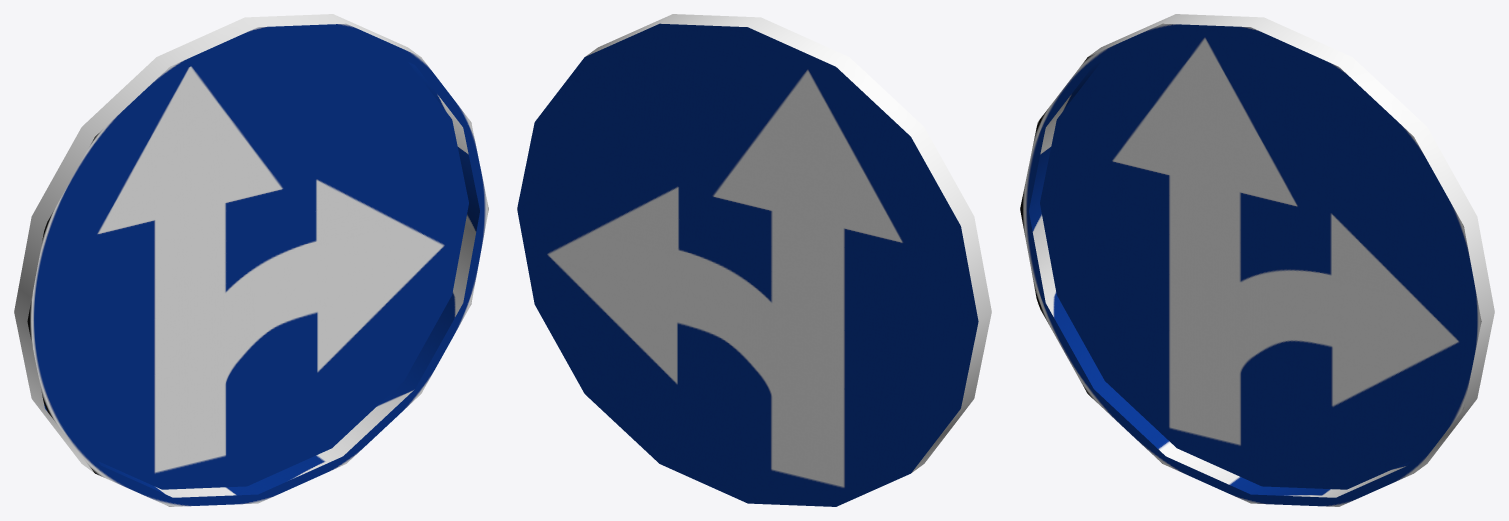
File: lewo prosto.fbx
3 renders of one model, left to right at view 1: azimuth 30°, elevation 25°; view 2: azimuth 150°, elevation 25°; view 3: azimuth 330°, elevation 25°, orthographic.
Visible parts, largest first — view 1: Prohibition_MaximumHeight_LOD0; view 2: Prohibition_MaximumHeight_LOD0; view 3: Prohibition_MaximumHeight_LOD0.
Boxes of the visible parts, x1,y1,x2,y2 form: Prohibition_MaximumHeight_LOD0: [14, 14, 488, 506]; Prohibition_MaximumHeight_LOD0: [517, 14, 991, 506]; Prohibition_MaximumHeight_LOD0: [1020, 14, 1494, 506].
Size of the model in its own units: 70.96 by 70 by 3.55.
